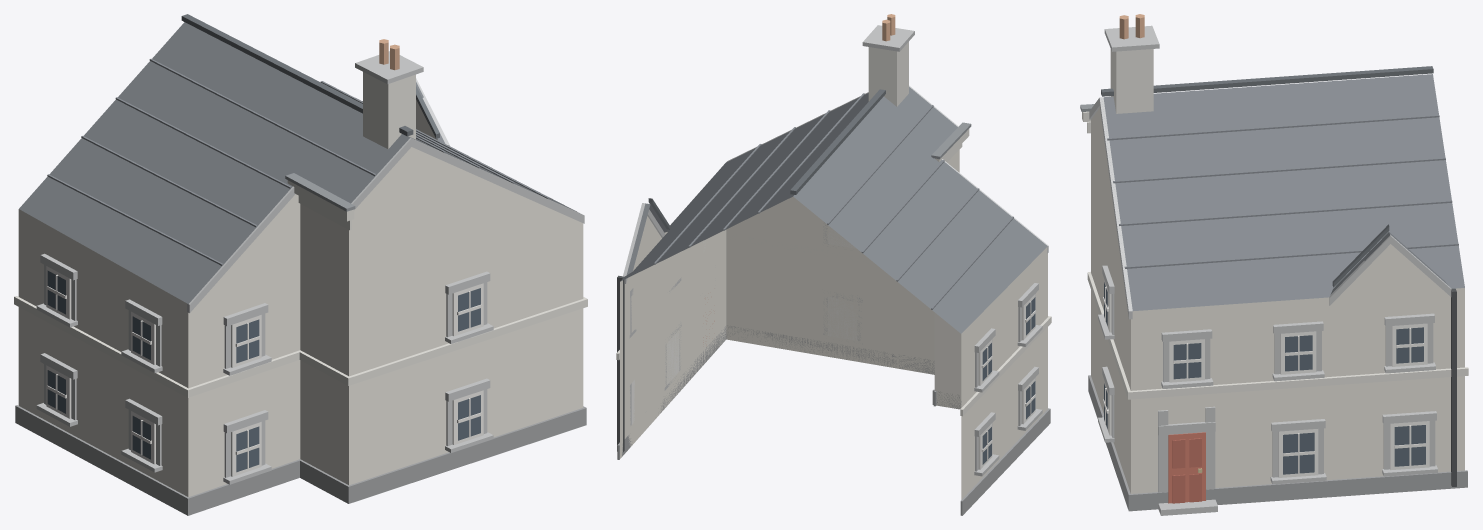
3 renders of one model, left to right at view 1: azimuth 30°, elevation 25°; view 2: azimuth 150°, elevation 25°; view 3: azimuth 270°, elevation 25°, orthographic. The views are drawn at different scales.
Visible parts, largest first — view 1: harl_cream, slate, stone_band, plinth, string, frame, slate_lt, chim_render, slate_dk, window_glass_010, window_glass_012, window_glass_011 (+2 smaller); view 2: harl_cream, slate, stone_band, plinth, slate_lt, frame, chim_render, slate_dk, string, pipe; view 3: slate, harl_cream, stone_band, plinth, frame, slate_lt, string, slate_dk, chim_render, door_red_p, door_red, pipe (+6 smaller).
Part boxes in pixels (x1,y1,x2,y2): harl_cream: (18,99,583,497); slate: (19,22,576,303); stone_band: (36,51,584,484); plinth: (15,405,586,515); string: (14,180,587,397); frame: (46,266,483,476); slate_lt: (47,58,549,265); chim_render: (363,72,415,149); slate_dk: (181,14,439,138); window_glass_010: (236,426,259,472); window_glass_012: (458,395,480,440); window_glass_011: (236,319,259,363); harl_cream: (620,150,1047,499); slate: (620,87,1047,333); stone_band: (623,25,1048,476); plinth: (617,325,1050,515); slate_lt: (654,93,1013,309); frame: (631,225,1035,469); chim_render: (868,42,908,106); slate_dk: (648,89,885,229); string: (616,129,1051,416); pipe: (617,275,624,452); slate: (1103,74,1464,311); harl_cream: (1091,108,1464,493); stone_band: (1089,25,1451,515); plinth: (1088,375,1467,511); frame: (1103,280,1429,477); slate_lt: (1107,115,1458,268); string: (1082,111,1468,399); slate_dk: (1101,66,1433,287); chim_render: (1110,49,1153,113); door_red_p: (1172,438,1201,503); door_red: (1168,432,1205,503); pipe: (1451,288,1456,486).
Size of the model in its own units: 11.98 by 11.18 by 9.74.
